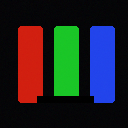3 line_h: (37, 96, 93, 102)
